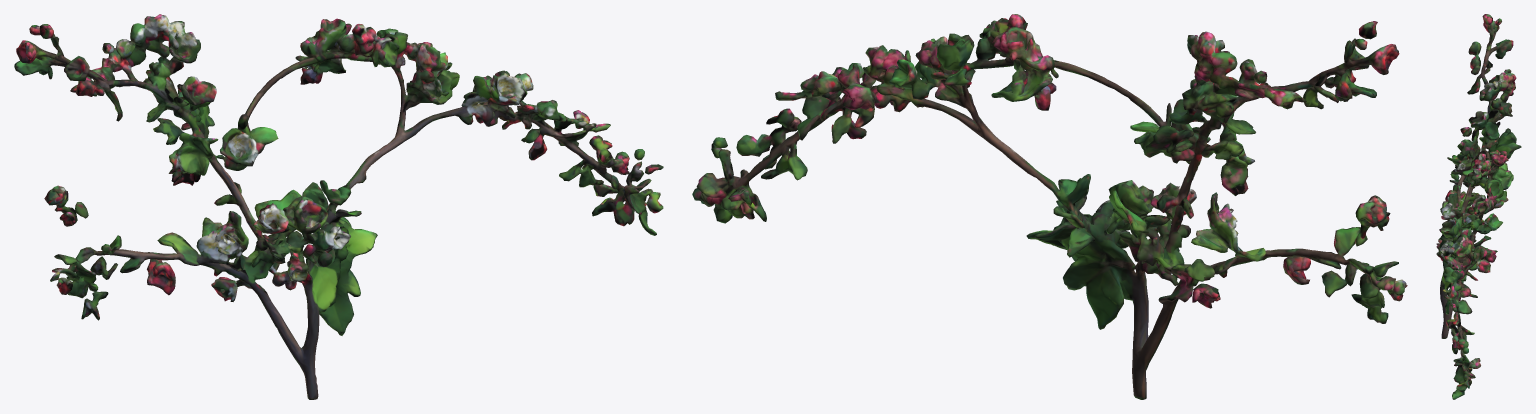
The model's file is AI_FloweringBush.fbx.
The picture shows the model from 3 angles, left to right: view 1: azimuth 30°, elevation 25°; view 2: azimuth 150°, elevation 25°; view 3: azimuth 270°, elevation 25°; orthographic projection. The views are drawn at different scales.
Visible parts, largest first — view 1: Mesh1; view 2: Mesh1; view 3: Mesh1.
Part boxes in pixels (x1=…): Mesh1: x1=14, y1=14, x2=663, y2=399; Mesh1: x1=692, y1=14, x2=1407, y2=399; Mesh1: x1=1436, y1=14, x2=1521, y2=399.
Bounding box in the file's own units: 199 × 124 × 38.24.
1 material, 1 textured.
